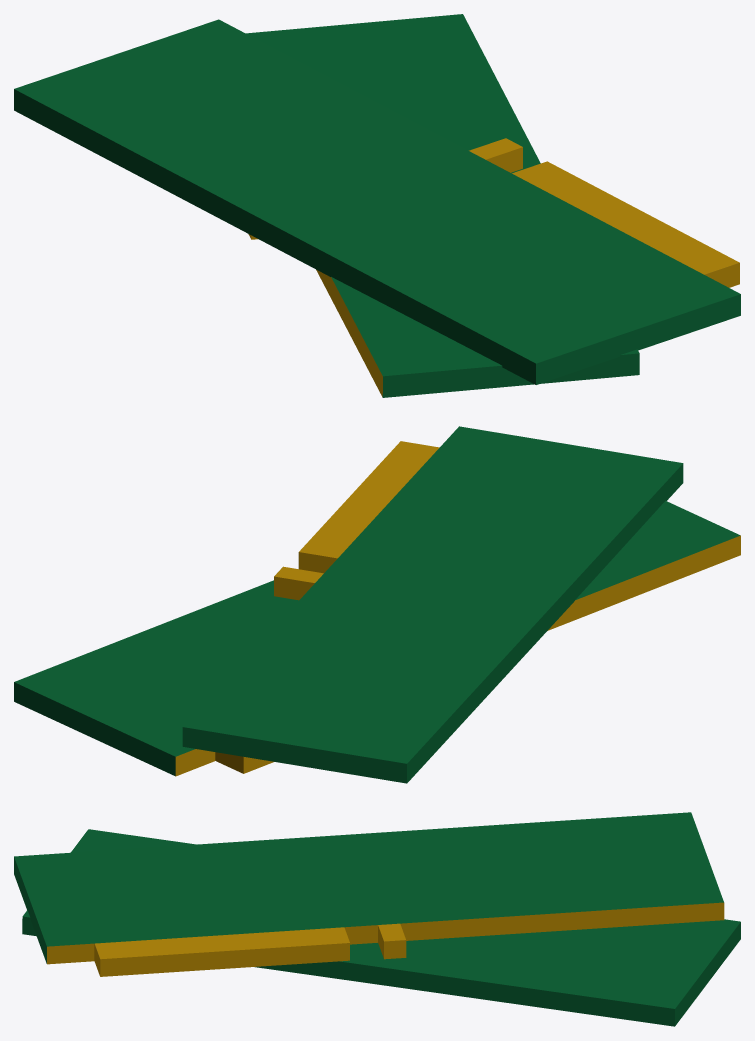
Rendered from Chips 1.fbx.
3 renders of one model, top to bottom at view 1: azimuth 30°, elevation 25°; view 2: azimuth 150°, elevation 25°; view 3: azimuth 270°, elevation 25°, orthographic. The views are drawn at different scales.
Parts seen in each view (by area): view 1: Chips; view 2: Chips; view 3: Chips.
Part boxes in pixels (x1,y1,x2,y2): Chips: (14,14,740,397); Chips: (14,426,740,783); Chips: (14,812,740,1026).
Size of the model in its own units: 1.51 by 0.1532 by 2.64.
Materials: 1 (1 with a texture image).
